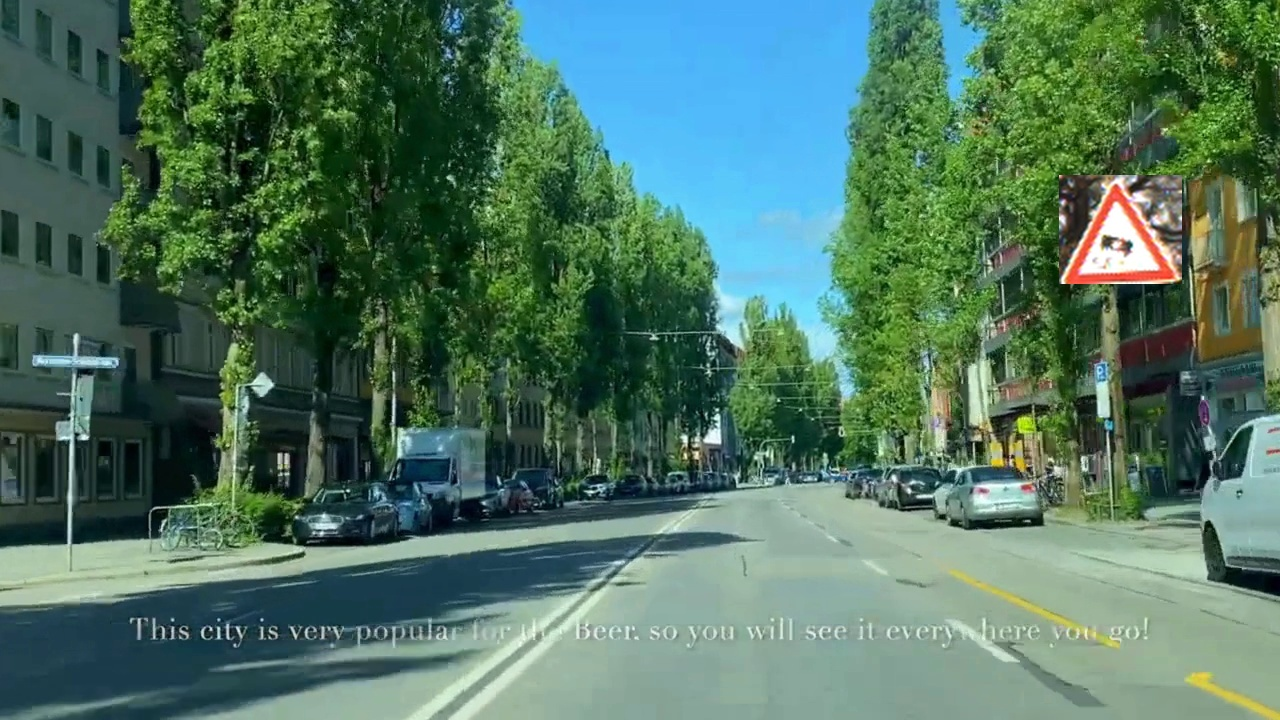Slippery: (1059, 175, 1182, 284)
